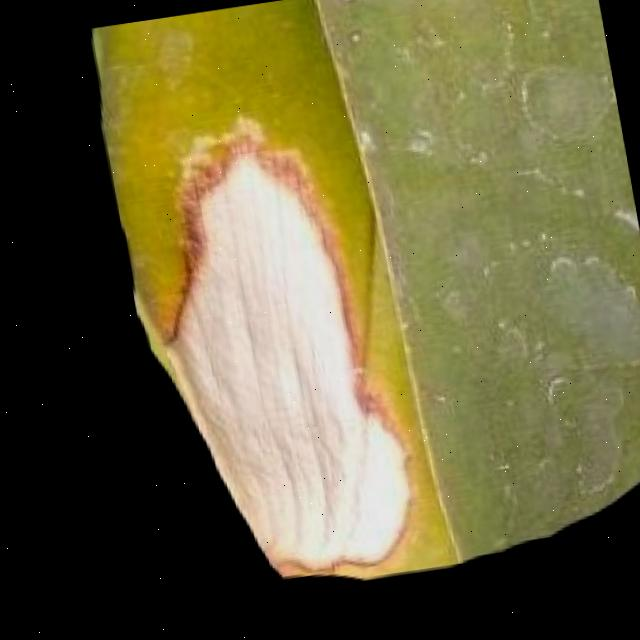mite: (340, 0, 640, 491), (512, 51, 623, 154), (330, 0, 379, 52), (347, 25, 368, 48), (335, 0, 364, 6)
